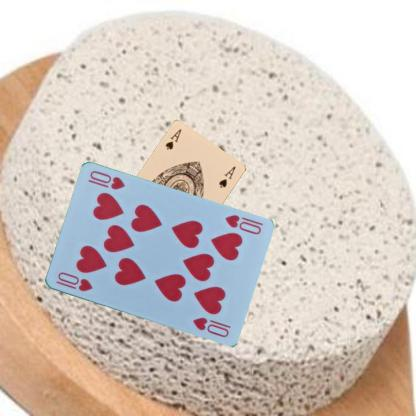10h: (222, 212, 262, 236), (55, 269, 93, 293)
As: (163, 126, 183, 152)
